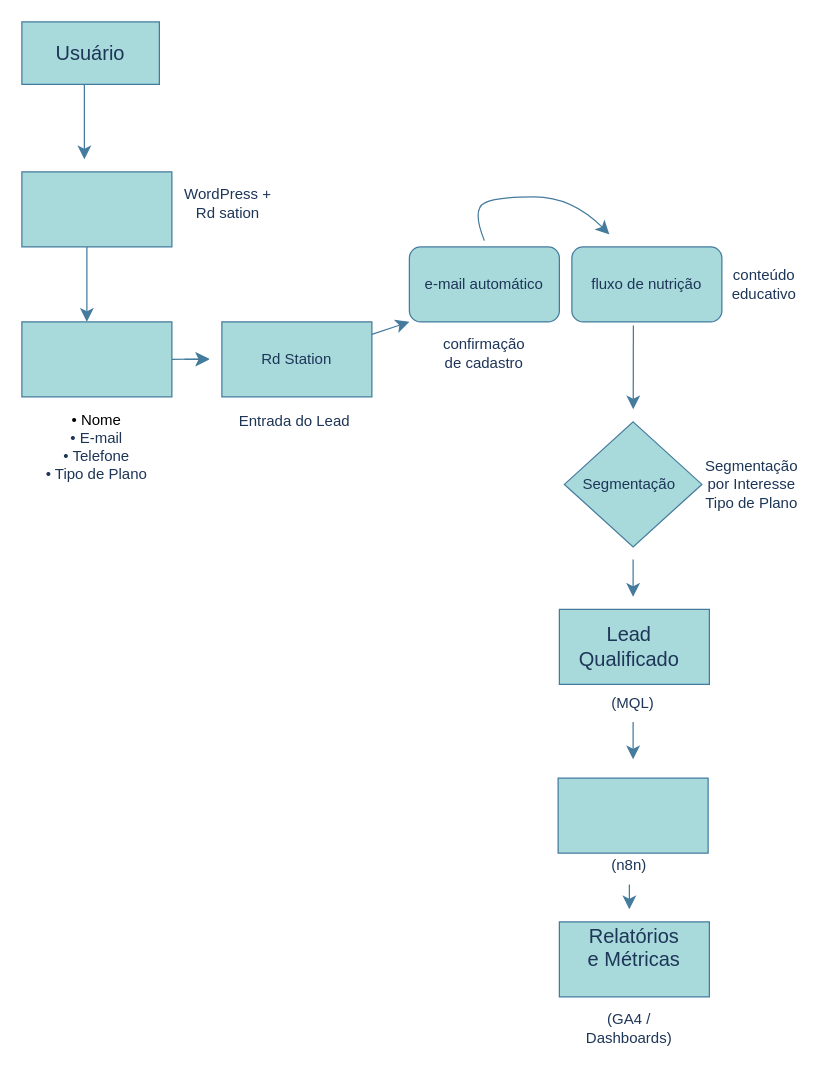
Image size: 824x1069. Some labels were removed from this diagram. The centre of each missing label's shape, as x and y in pixels:
"formulário de captação" goes at (x=96, y=359).
"Integração / Automação" goes at (x=632, y=815).
"Landing Page" goes at (x=96, y=209).
